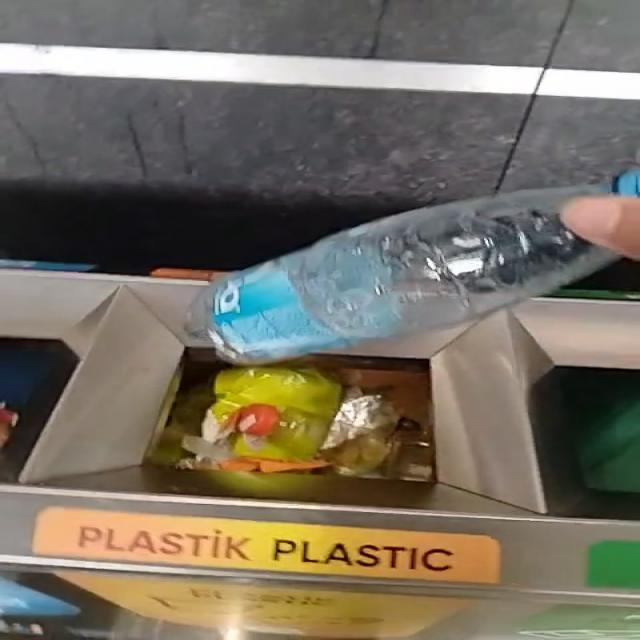plastic: (188, 186, 620, 364)
